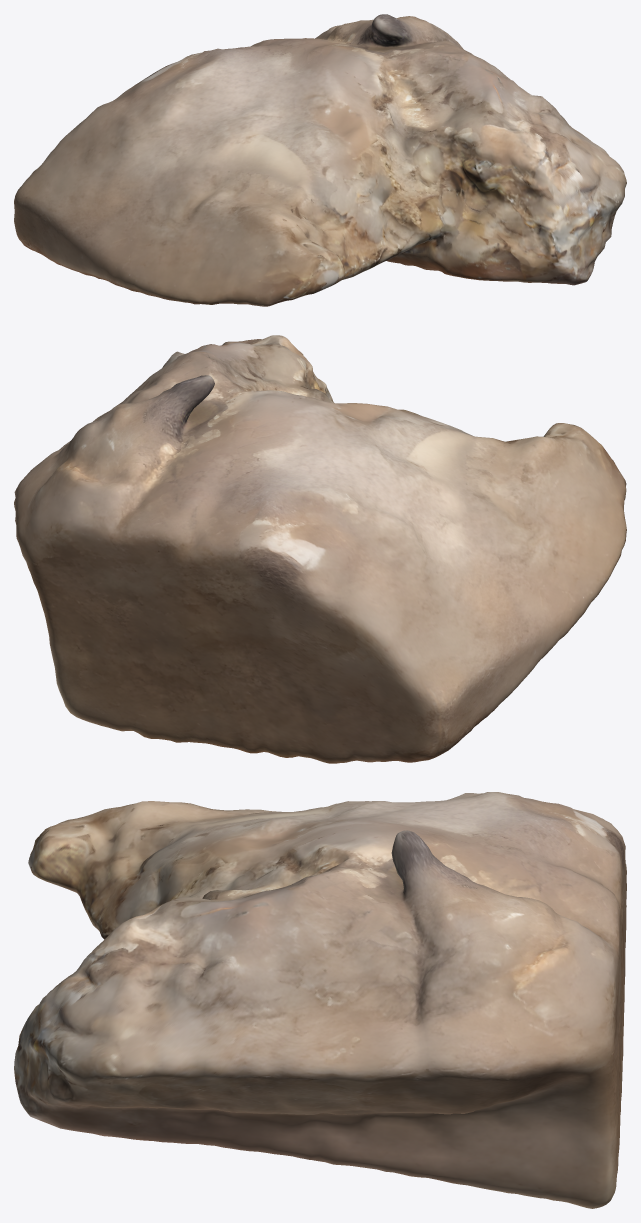
3 views of the same model, one above another, from view 1: azimuth 30°, elevation 25°; view 2: azimuth 150°, elevation 25°; view 3: azimuth 270°, elevation 25° (orthographic). The views are drawn at different scales.
Parts seen in each view (by area): view 1: model; view 2: model; view 3: model.
Boxes of the visible parts, x1,y1,x2,y2 form: model: [14, 14, 626, 306]; model: [14, 335, 626, 763]; model: [14, 792, 626, 1208].
Size of the model in its own units: 1.75 by 0.993 by 1.57.
Materials: 1 (1 with a texture image).
